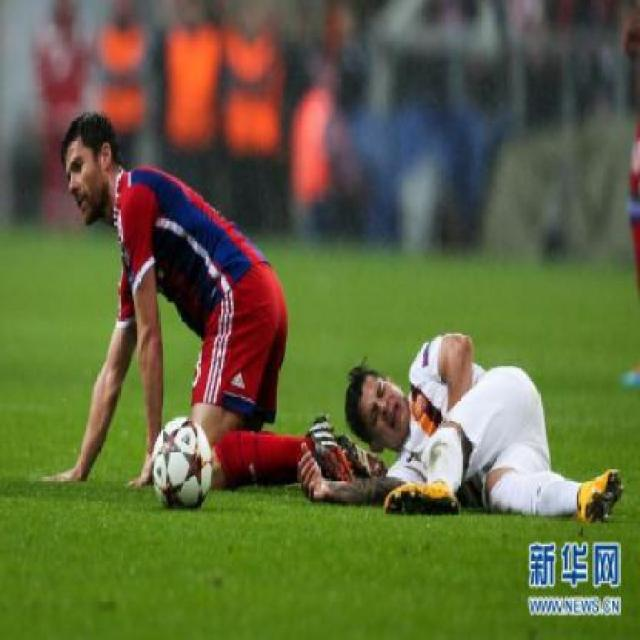fall: (42, 100, 338, 517)
